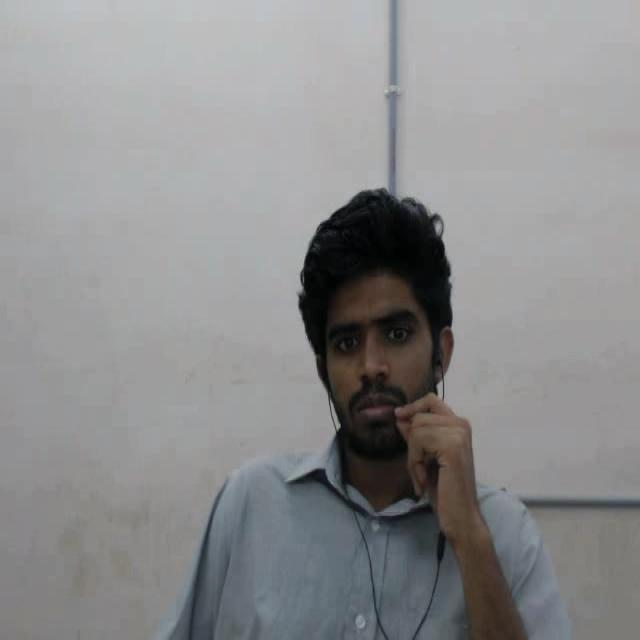Bored: (282, 164, 478, 494)
